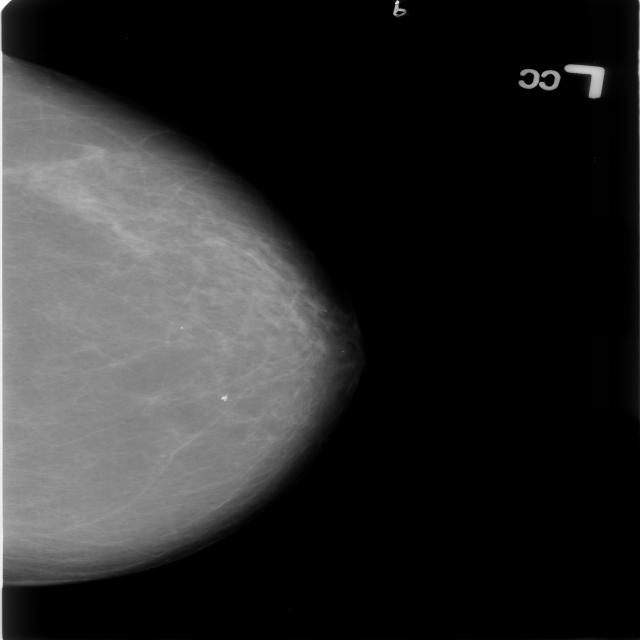normal: (0, 46, 367, 585)
